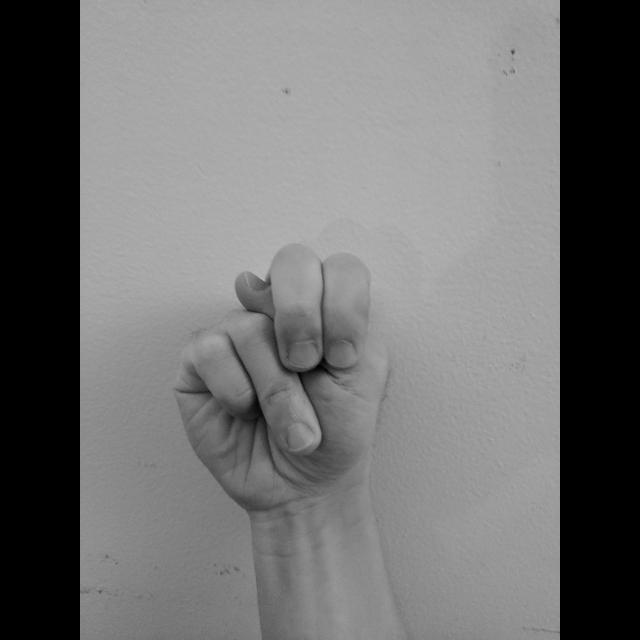N: (168, 236, 394, 520)
